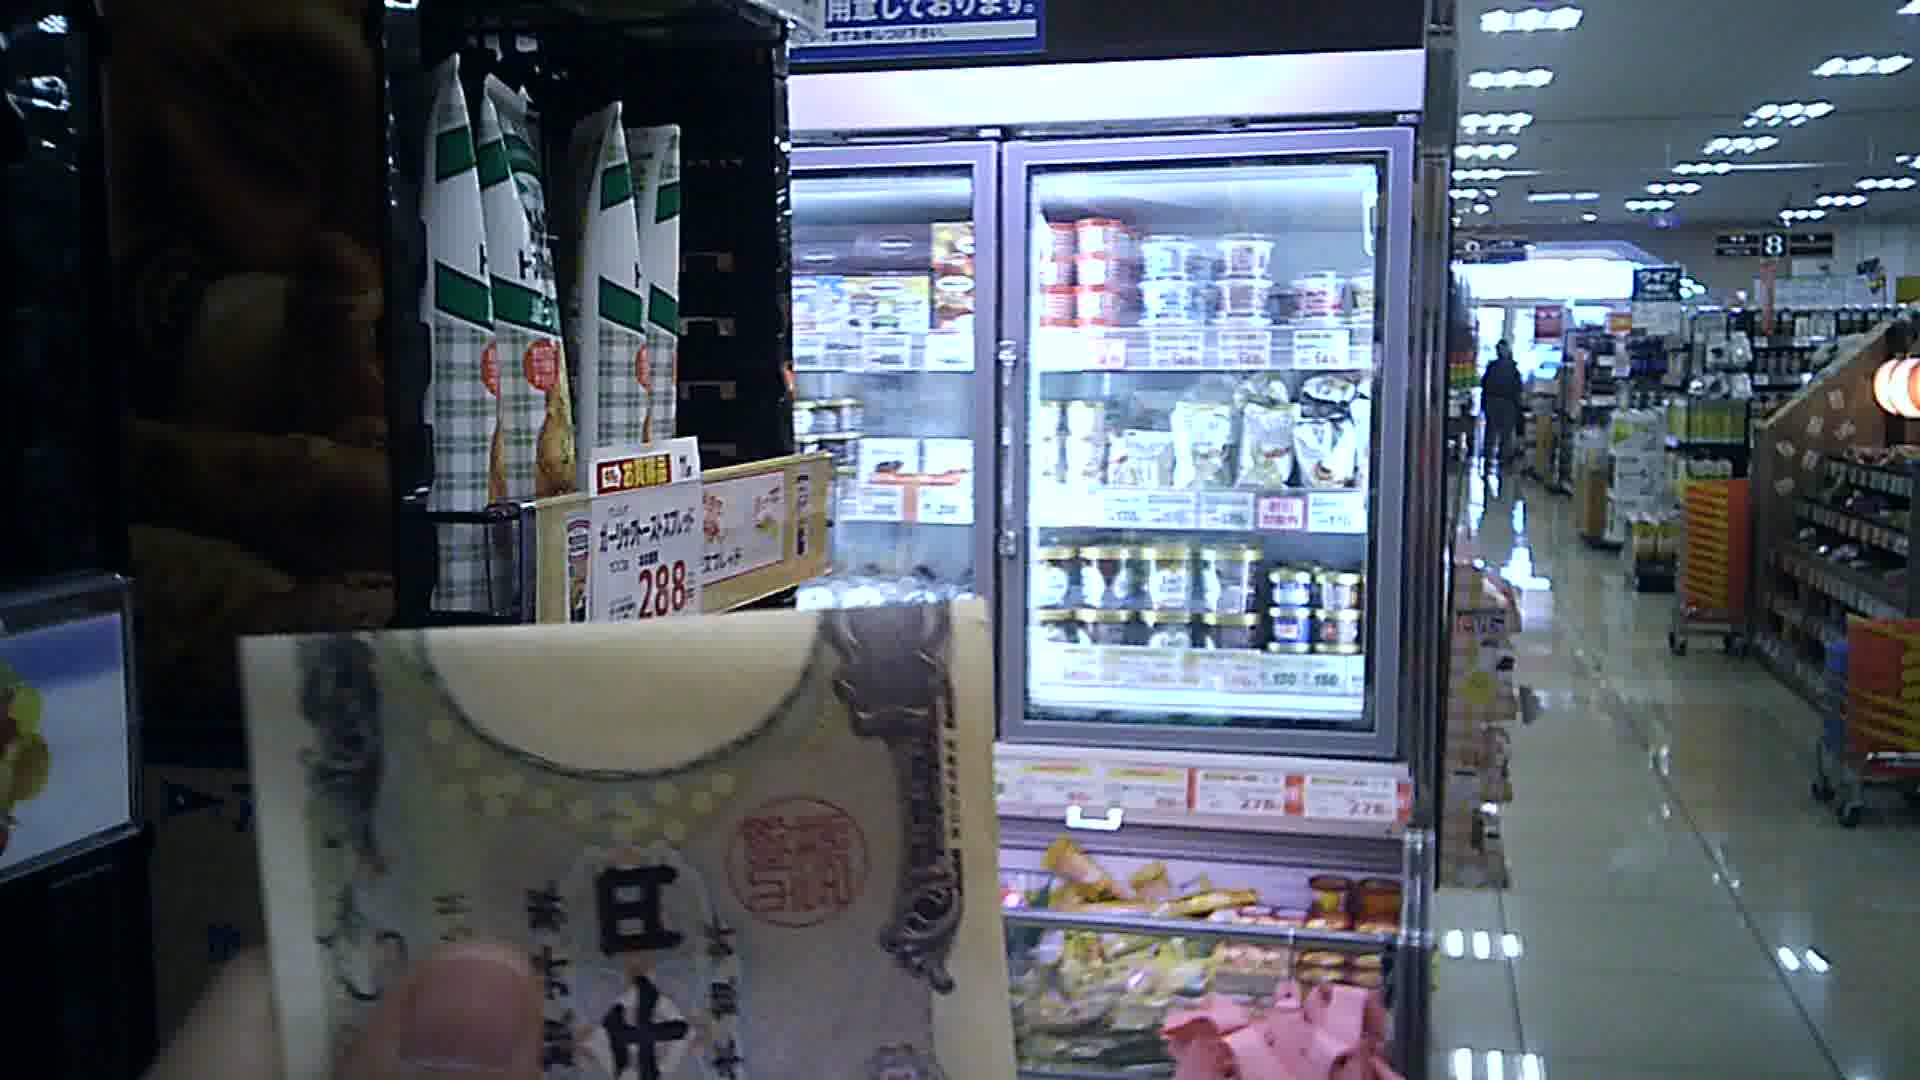5,000 Yen: (225, 582, 1009, 1077)
